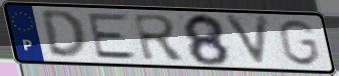8: (180, 12, 234, 68)
D: (39, 9, 90, 62)
E: (85, 13, 141, 61)
G: (275, 18, 322, 68)
R: (130, 13, 189, 63)
V: (221, 13, 273, 69)
